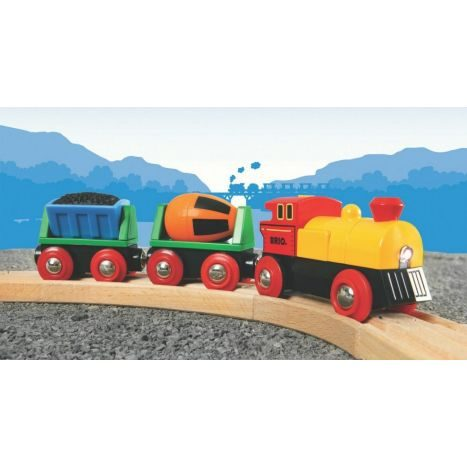brio: (256, 188, 433, 325)
